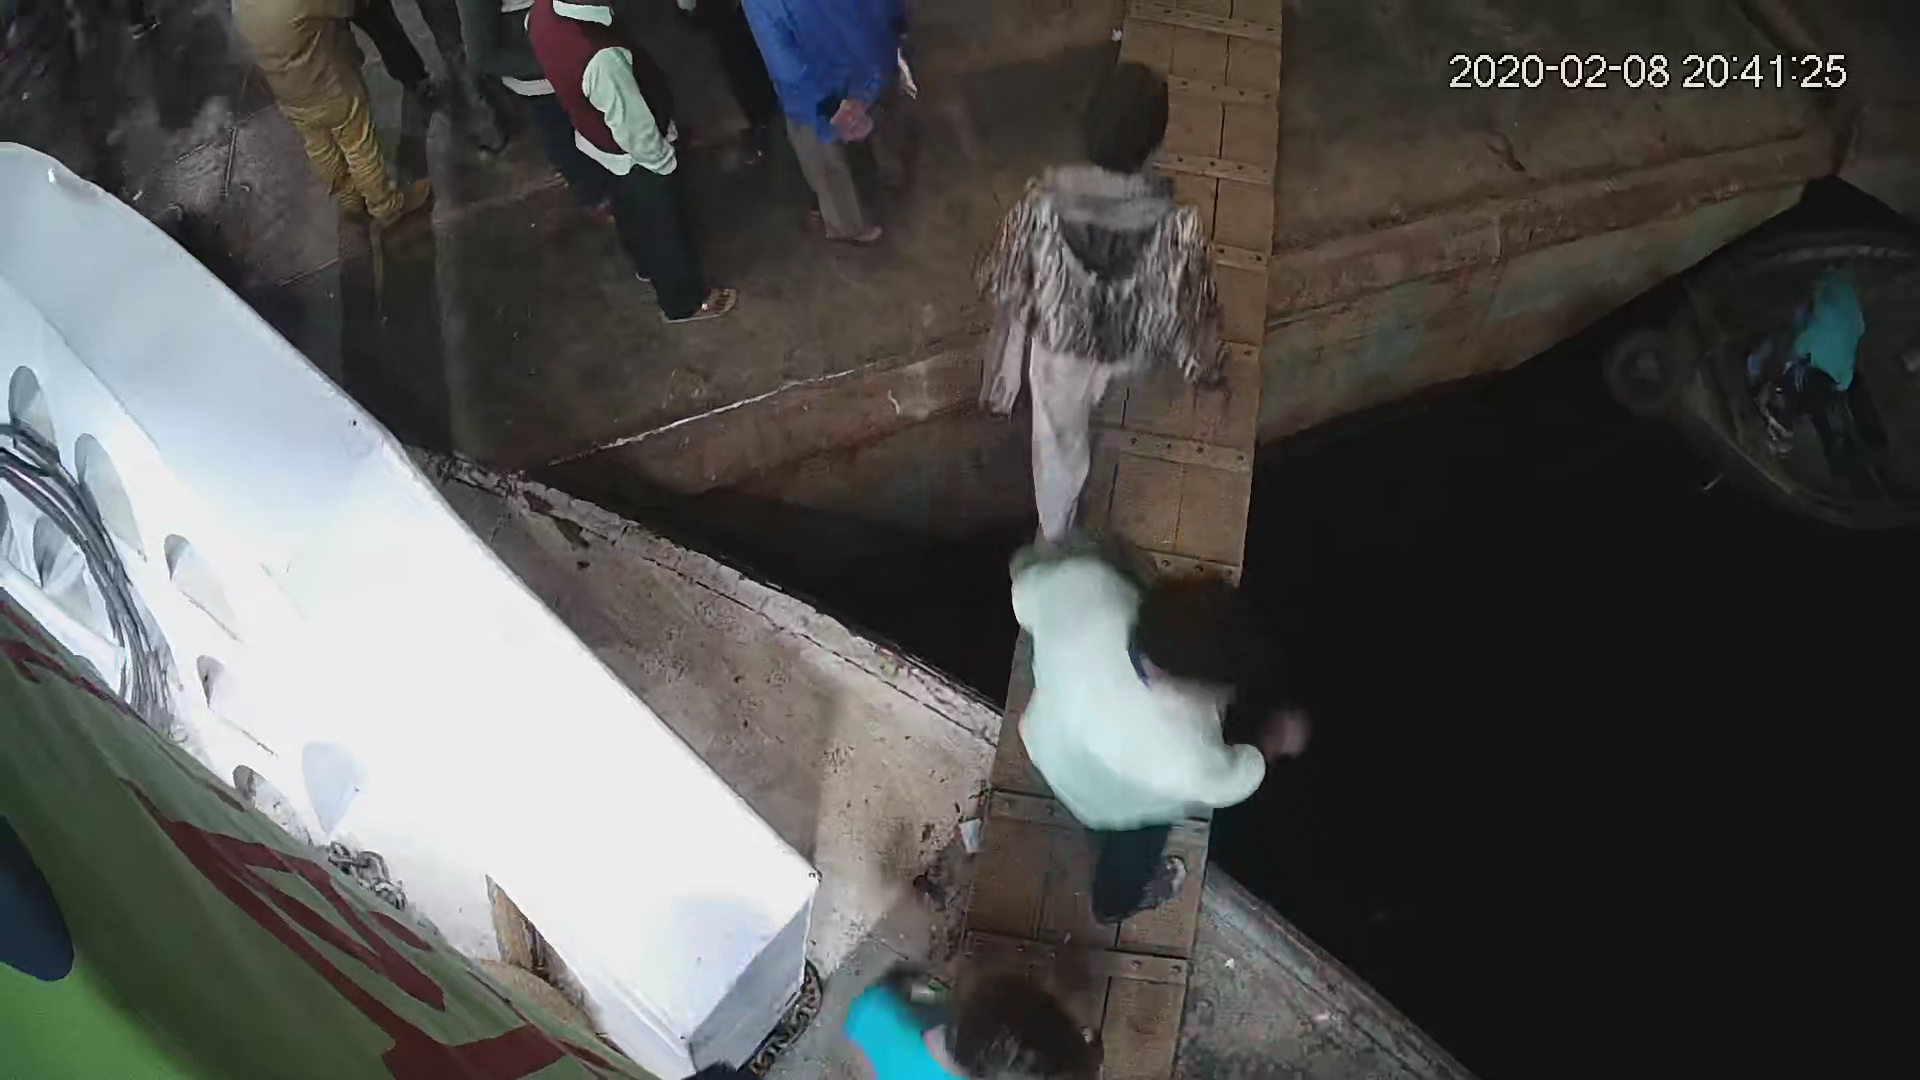person: (975, 49, 1235, 541), (986, 540, 1310, 930), (514, 1, 744, 334), (235, 1, 442, 238), (1756, 270, 1885, 418)
